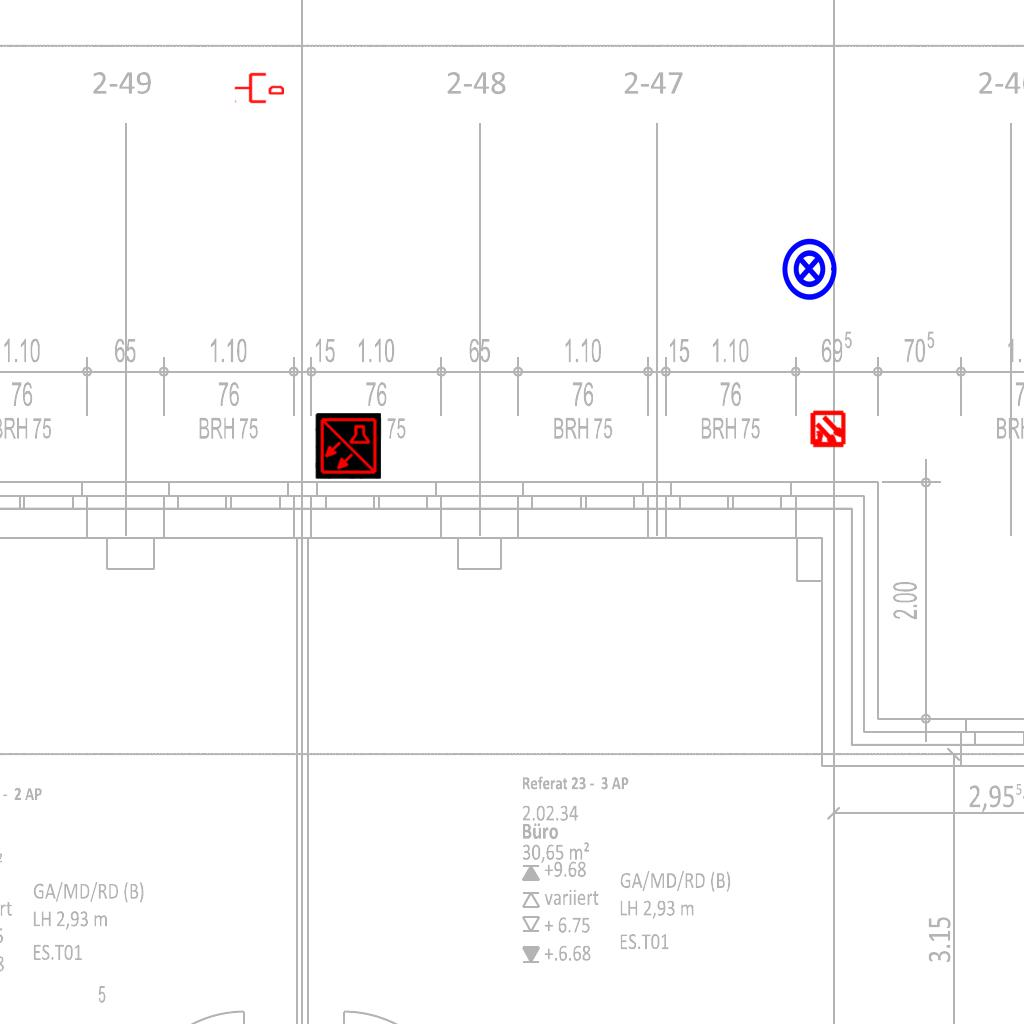Datenanschluss_einfach: (234, 71, 284, 105)
OKW_Multisensormelder_(Kombination_optischer_Rauch-Kahlenmonoxid_Waerme-Melder): (315, 413, 381, 479)
OT_Multisensormelder_(Kombination_RMO_WMD): (800, 402, 856, 458)
Taster_beleuchtet: (776, 236, 842, 302)
